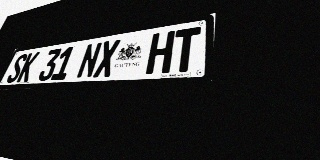1: (50, 46, 76, 80)
3: (37, 48, 62, 81)
H: (145, 30, 175, 74)
K: (16, 52, 40, 82)
N: (76, 42, 103, 79)
S: (5, 53, 29, 83)
T: (170, 26, 201, 73)
X: (93, 39, 121, 78)
